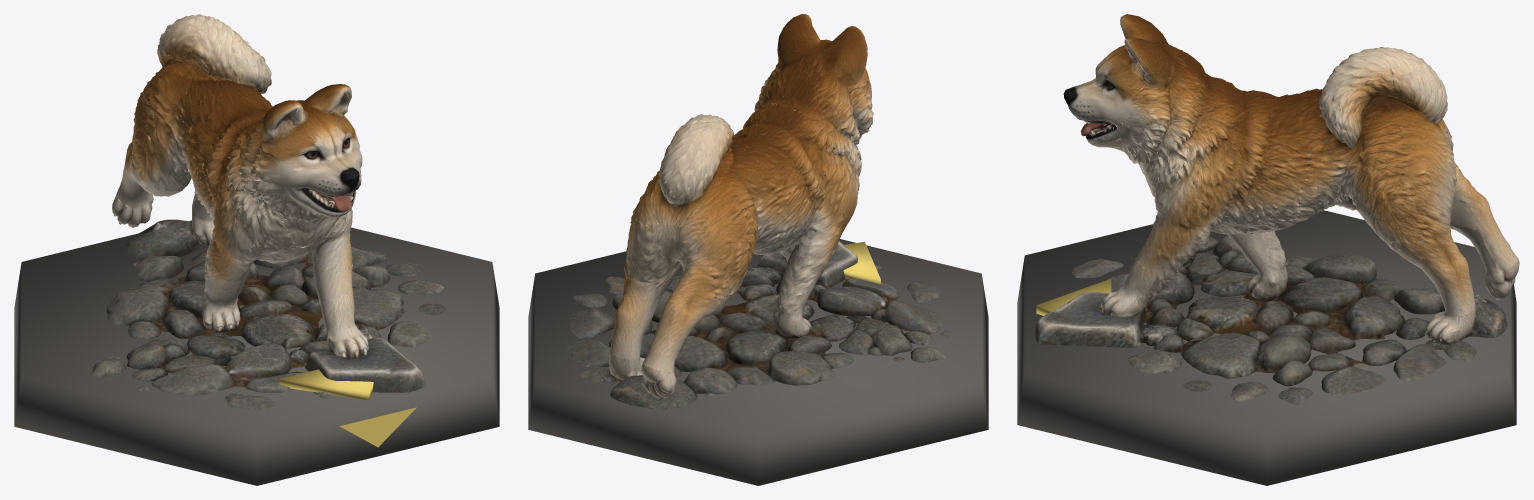
Rendered from hachiko.glb.
The picture shows the model from 3 angles, left to right: view 1: azimuth 30°, elevation 25°; view 2: azimuth 150°, elevation 25°; view 3: azimuth 270°, elevation 25°; orthographic projection. The views are drawn at different scales.
Parts seen in each view (by area): view 1: Miniatura; view 2: Miniatura; view 3: Miniatura.
Boxes of the visible parts, x1,y1,x2,y2 form: Miniatura: (14,14,499,485); Miniatura: (528,14,988,485); Miniatura: (1017,14,1519,485).
Size of the model in its own units: 2 by 1.28 by 1.74.
3 materials, 1 textured.
